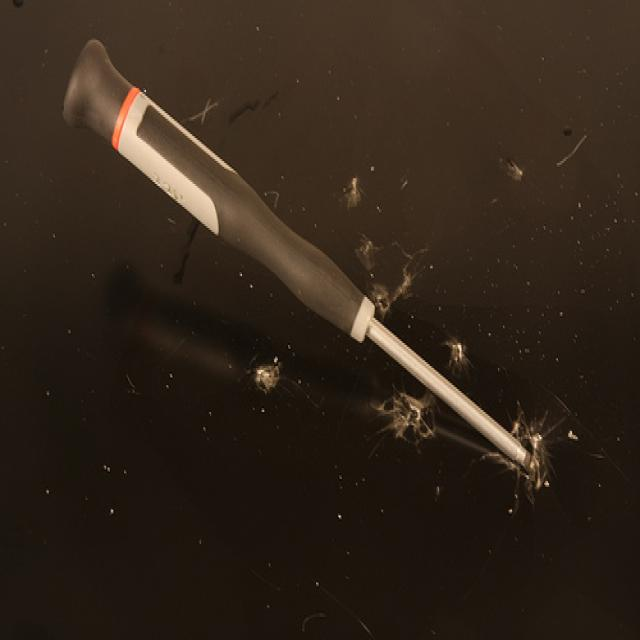screw_driver: (47, 24, 549, 483)
